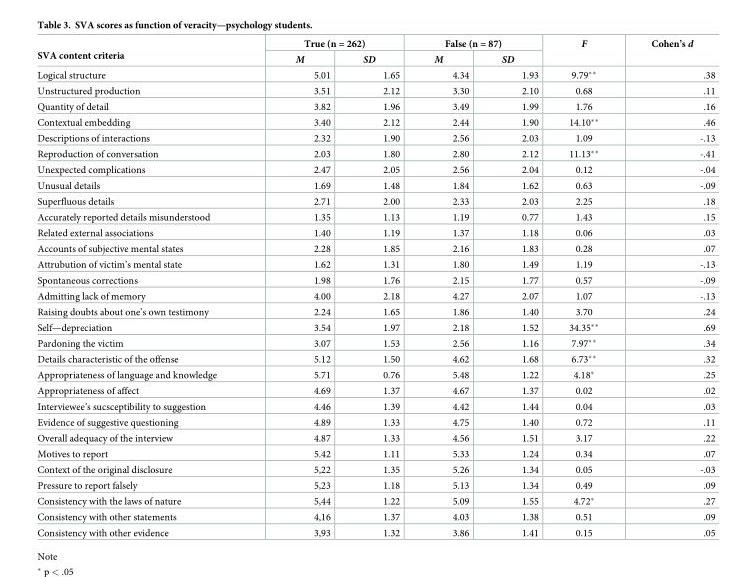table: (36, 36, 714, 537)
table column: (36, 36, 255, 537), (255, 36, 346, 537), (624, 36, 714, 537), (552, 36, 624, 537), (346, 36, 416, 537), (416, 36, 484, 537), (484, 36, 552, 537)
table column header: (36, 36, 714, 66)
table row: (36, 66, 714, 83), (36, 113, 714, 130), (36, 145, 714, 162), (36, 492, 714, 509), (36, 50, 714, 66), (36, 177, 714, 193), (36, 193, 714, 209), (36, 224, 714, 240), (36, 240, 714, 256), (36, 256, 714, 272), (36, 287, 714, 303), (36, 318, 714, 334), (36, 334, 714, 350), (36, 350, 714, 366), (36, 366, 714, 382), (36, 382, 714, 398), (36, 398, 714, 414), (36, 414, 714, 430), (36, 445, 714, 461), (36, 461, 714, 477), (36, 83, 714, 98), (36, 98, 714, 113), (36, 130, 714, 145), (36, 162, 714, 177), (36, 209, 714, 224), (36, 272, 714, 287), (36, 303, 714, 318), (36, 430, 714, 445), (36, 477, 714, 492), (36, 509, 714, 524), (36, 36, 714, 50), (36, 524, 714, 537)
table spanning cell: (36, 36, 255, 66), (624, 36, 714, 66), (255, 36, 416, 50), (552, 36, 624, 66), (416, 36, 552, 50)
